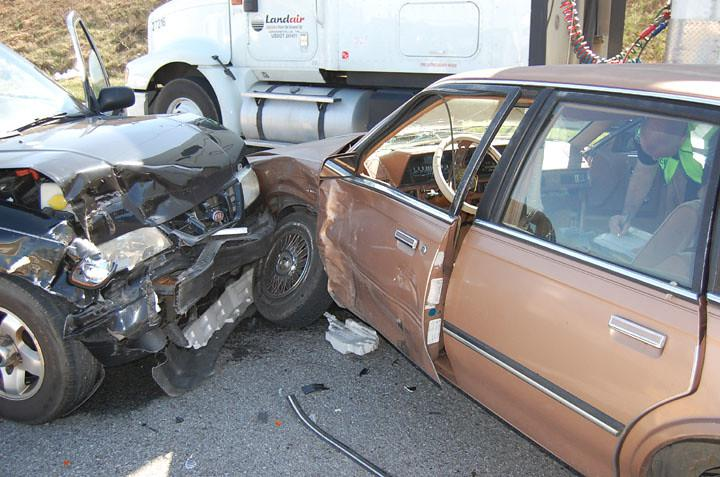Headlight-Damage: (48, 218, 159, 296)
bonnet-dent: (7, 123, 236, 231)
doorouter-dent: (320, 126, 449, 332)
fender-dent: (259, 150, 333, 205)
front-bumper-dent: (170, 246, 284, 343)
